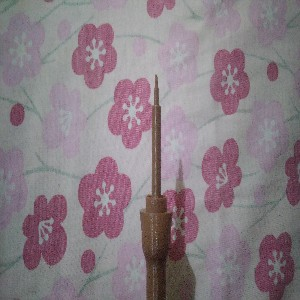solder: (139, 72, 175, 300)
